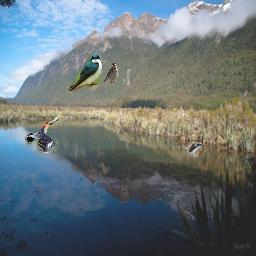Sparrow: (103, 62, 119, 84)
Swallow: (66, 53, 102, 93), (182, 141, 202, 157)
Woodpecker: (25, 113, 61, 153)
